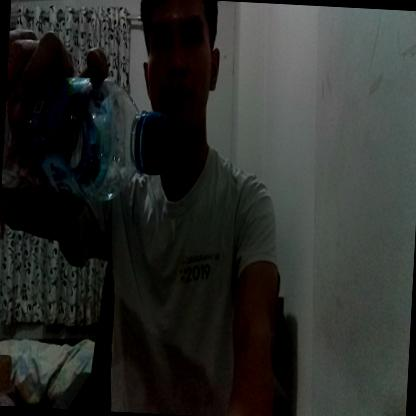plastic_bottles: (0, 77, 174, 205)
